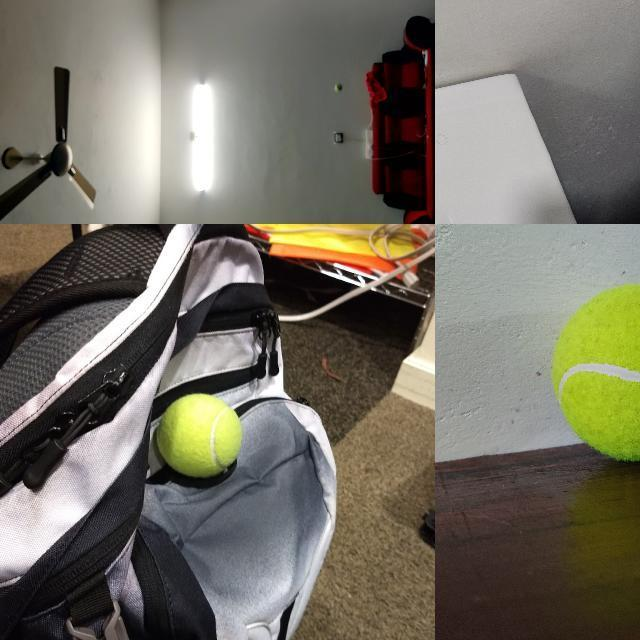tennis-ball: (551, 283, 639, 462), (156, 393, 242, 478), (334, 84, 342, 92)
